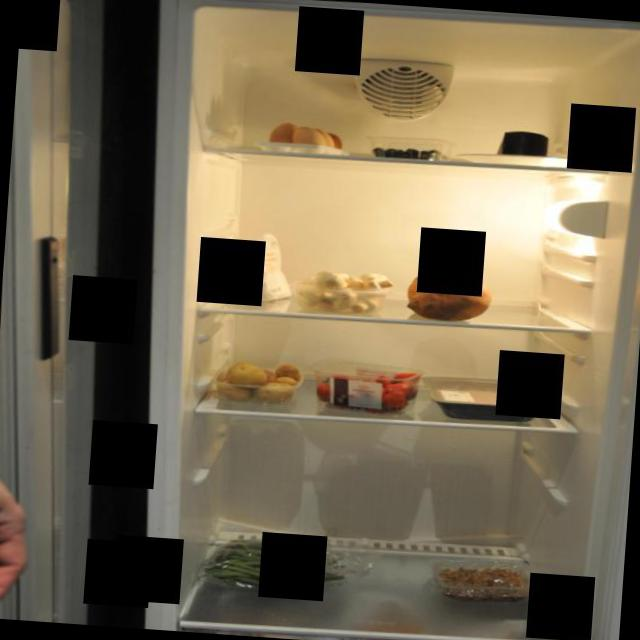Carne pollo: (428, 378, 538, 423)
Champiñones: (294, 266, 396, 315)
Gambas/Langostinos: (434, 559, 534, 606)
Huevos: (264, 120, 346, 156)
Patata: (207, 354, 306, 409)
Queso: (495, 126, 549, 160)
